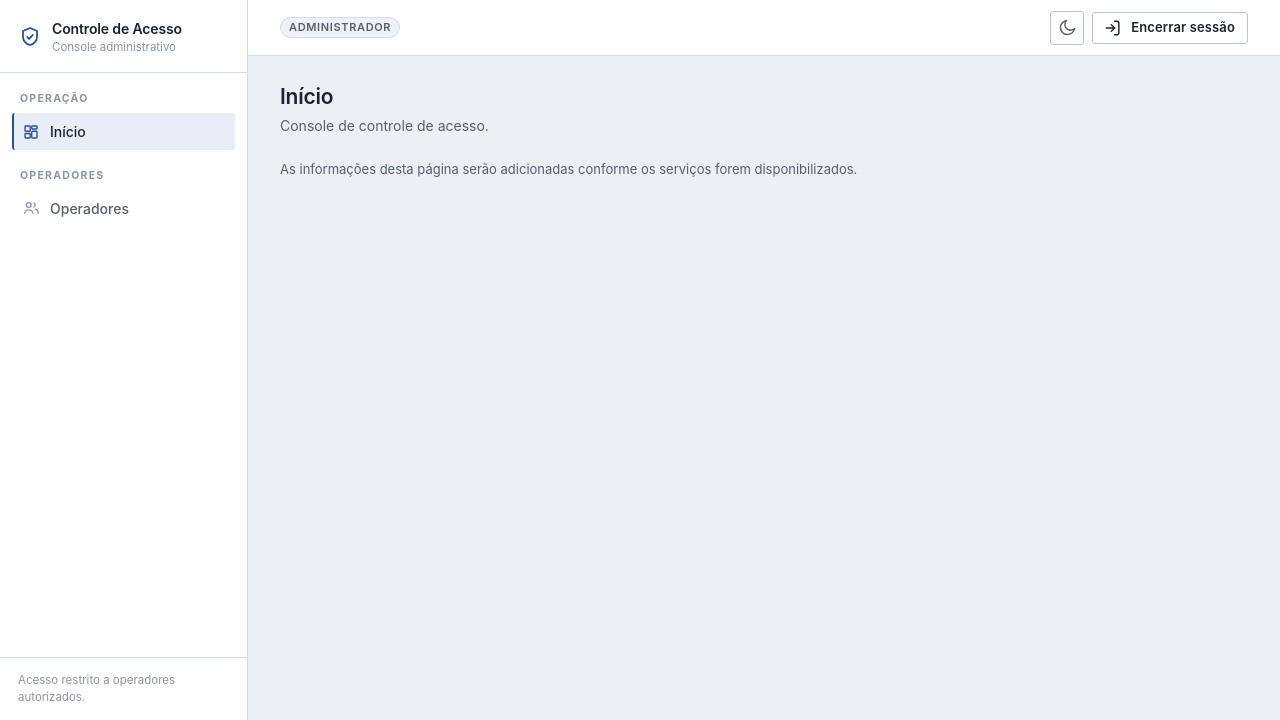
Test: App: jornadas de sessão › apaga a sessão e vai ao login, sem o aviso de sessão encerrada, ao encerrar a sessão
Click the button "Encerrar sessão" at (1170, 28), box left=1092, top=12, right=1248, bottom=44
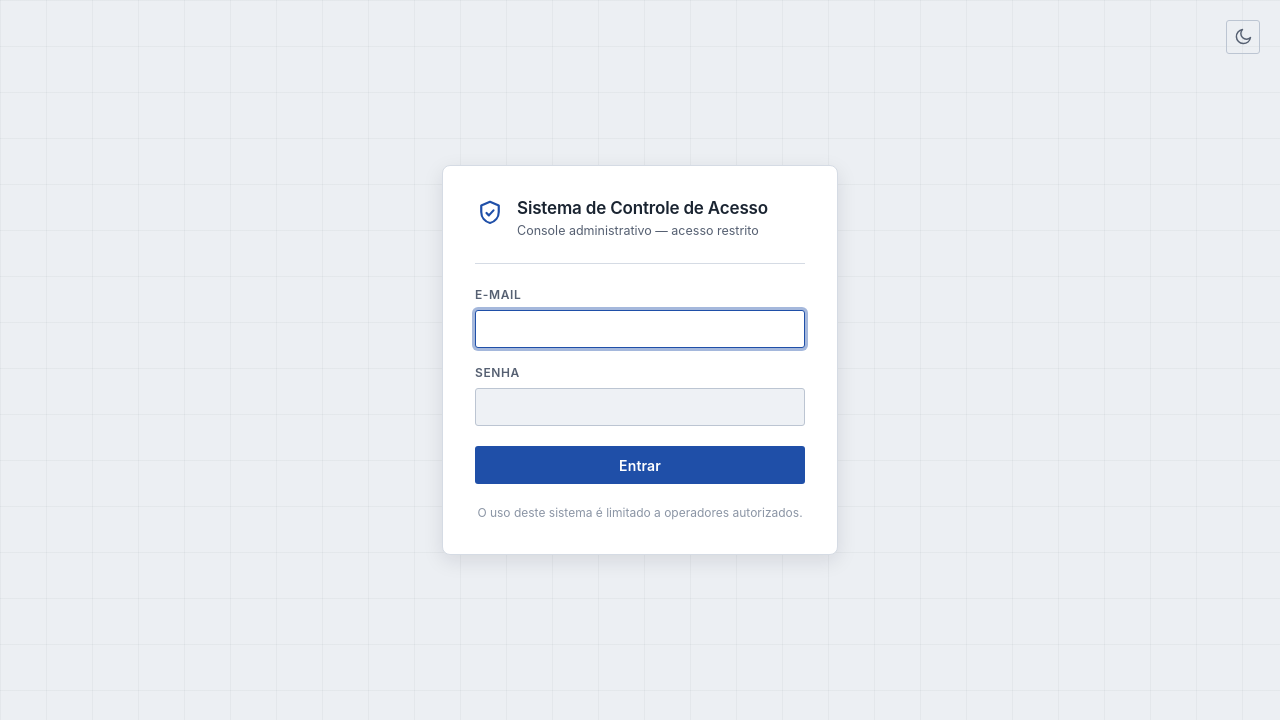
Expected: the heading "Sistema de Controle de Acesso" is shown, left=517, top=198, right=768, bottom=219
